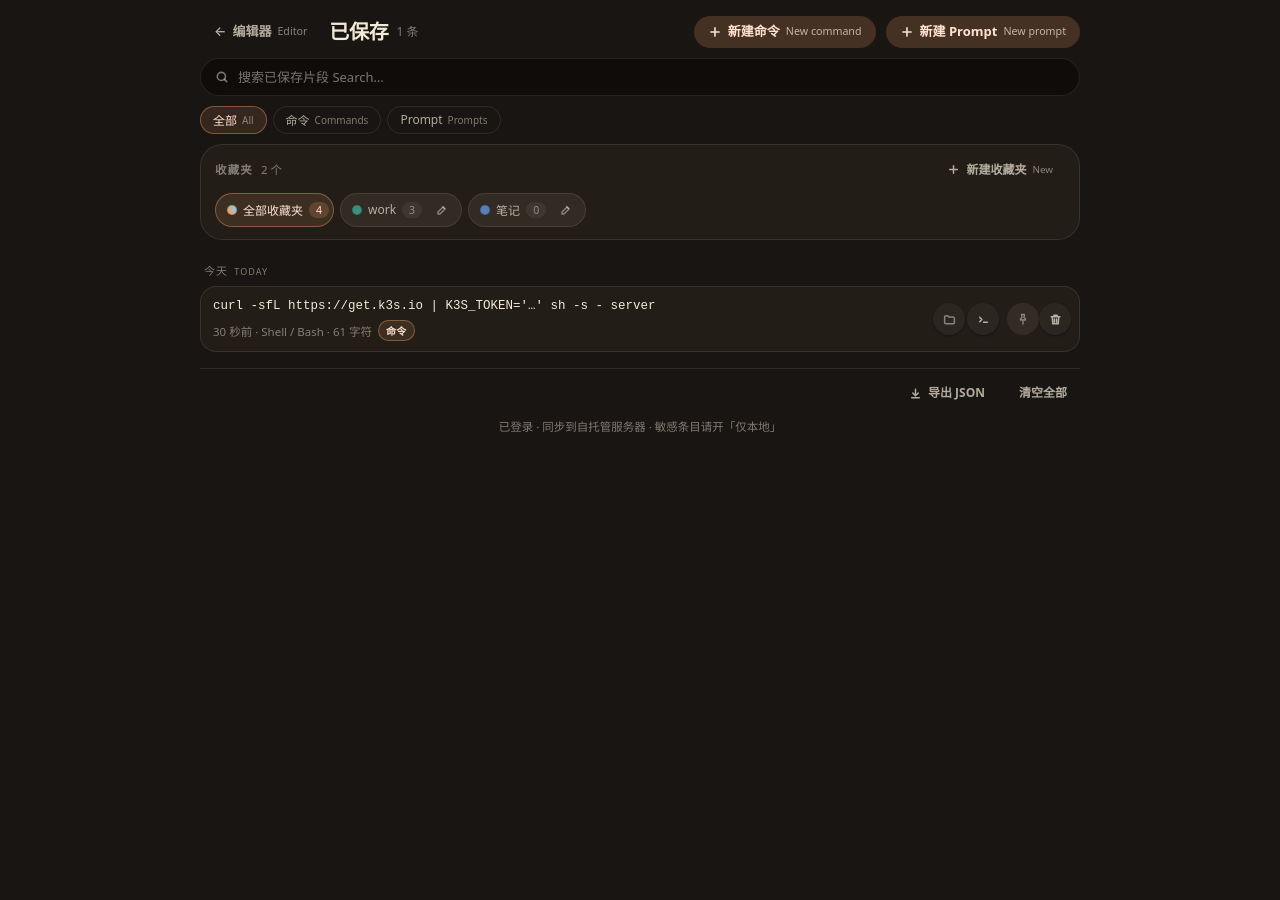
Test: SavedPage（收藏夹管理，云端模式） › 编辑收藏夹：没有任何改动时保存不发请求
Click the button named "管理收藏夹「work」": (442, 210) top-left (426, 194), bottom-right (458, 226)
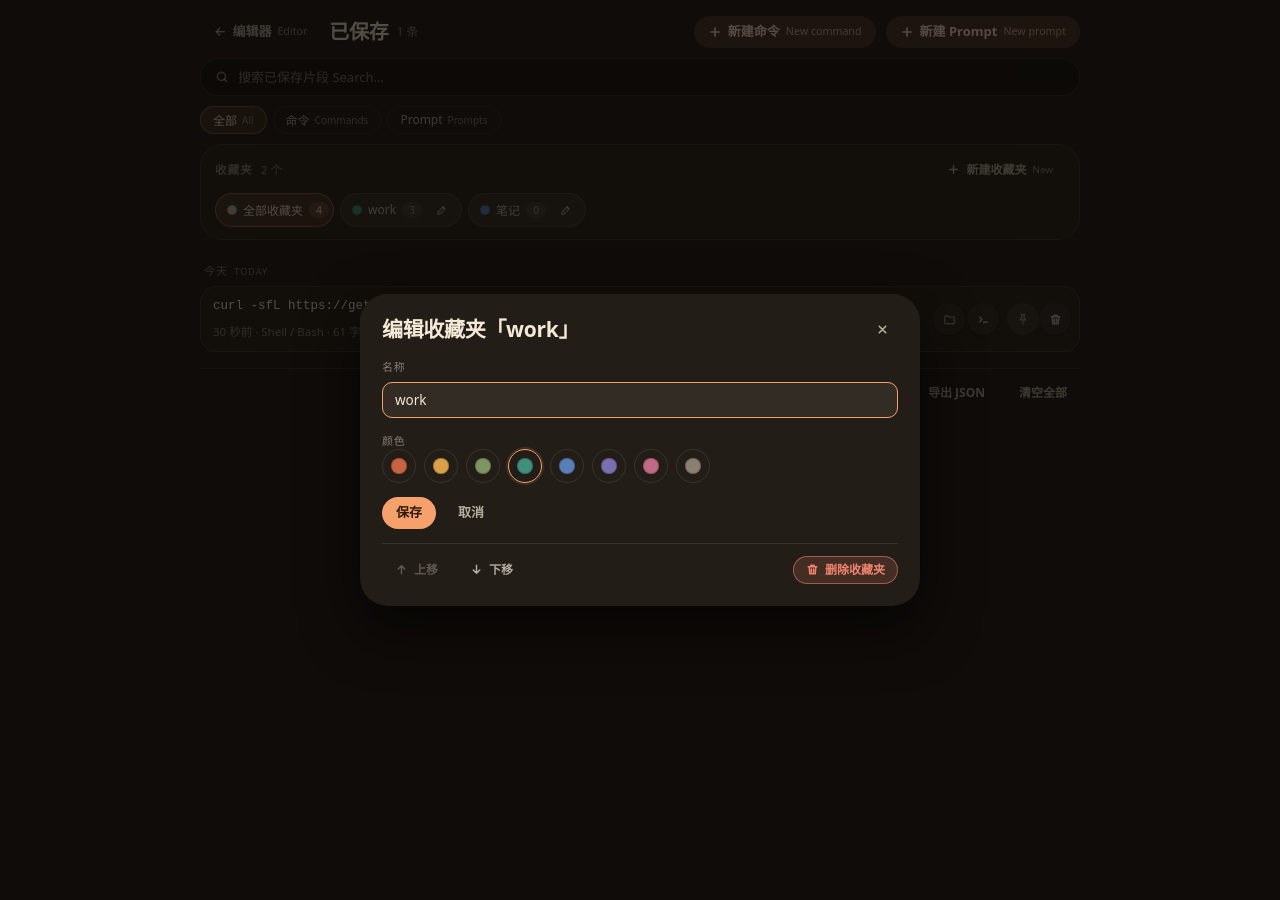
Click the button "保存": (409, 513) top-left (382, 497), bottom-right (436, 529)
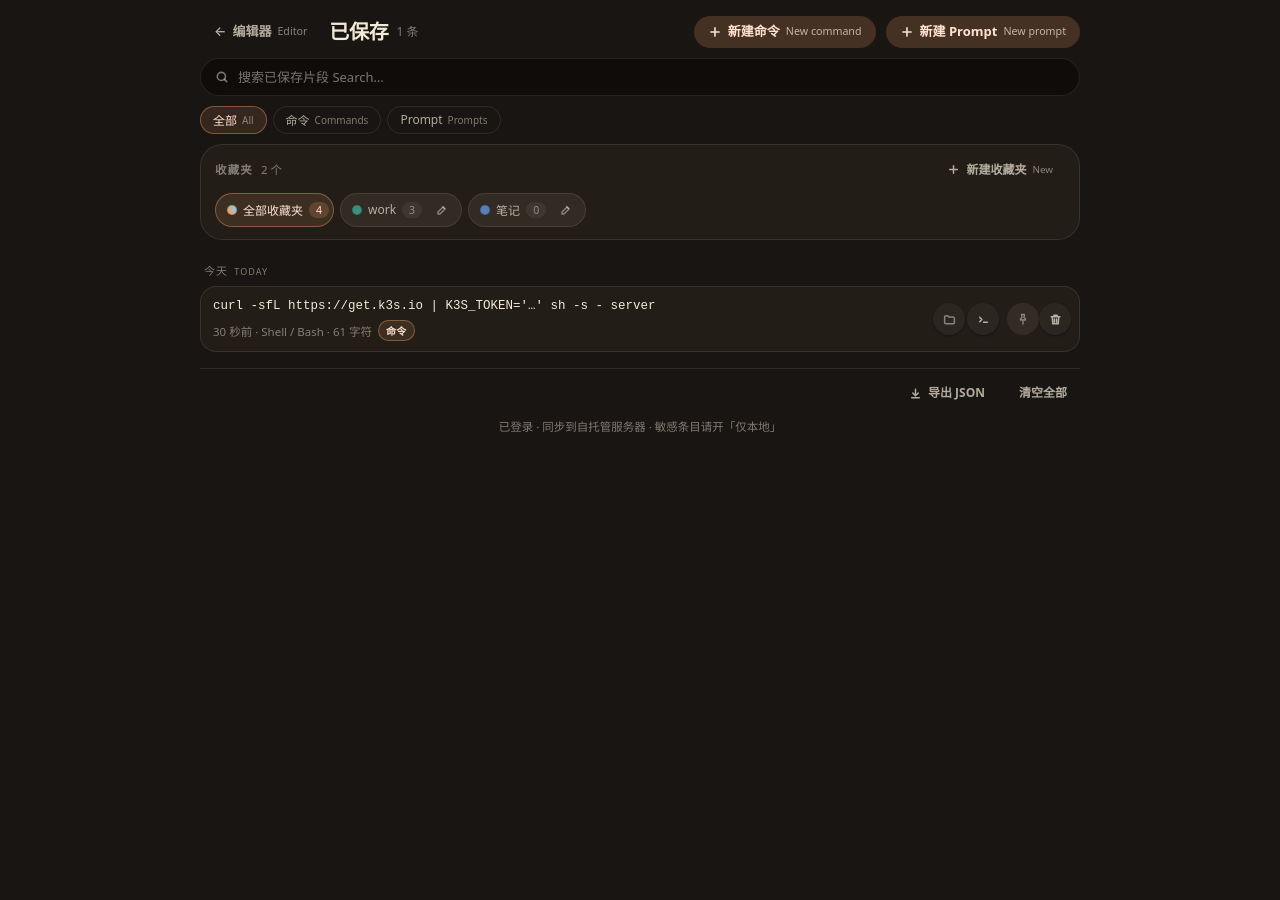
Now the dialog is gone
